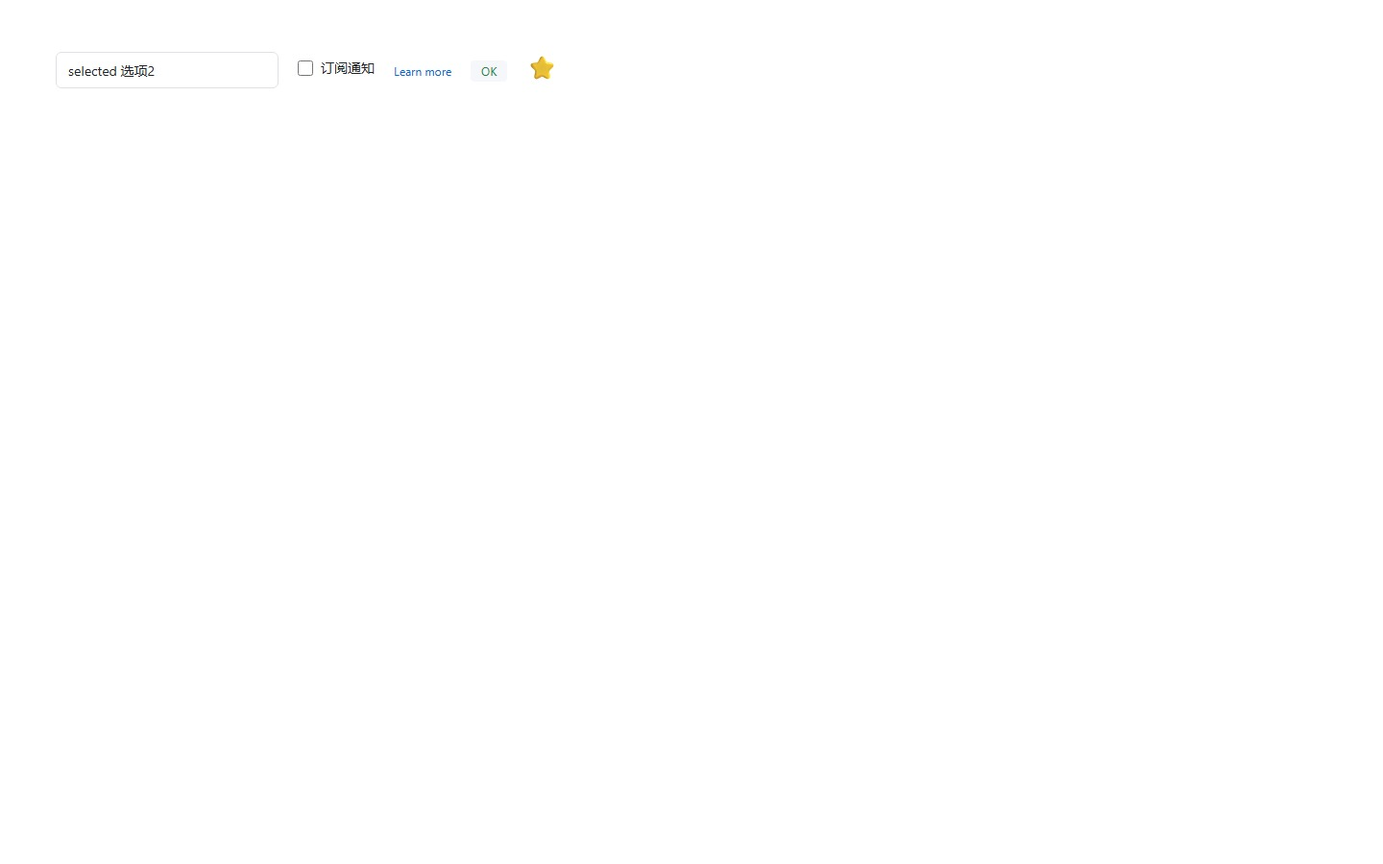button: (471, 60, 507, 81)
checkbox: (298, 60, 313, 75)
icon: (321, 59, 375, 77), (526, 54, 558, 77)
link: (394, 63, 451, 78)
radio: (298, 59, 375, 77)
select: (56, 52, 279, 88)
